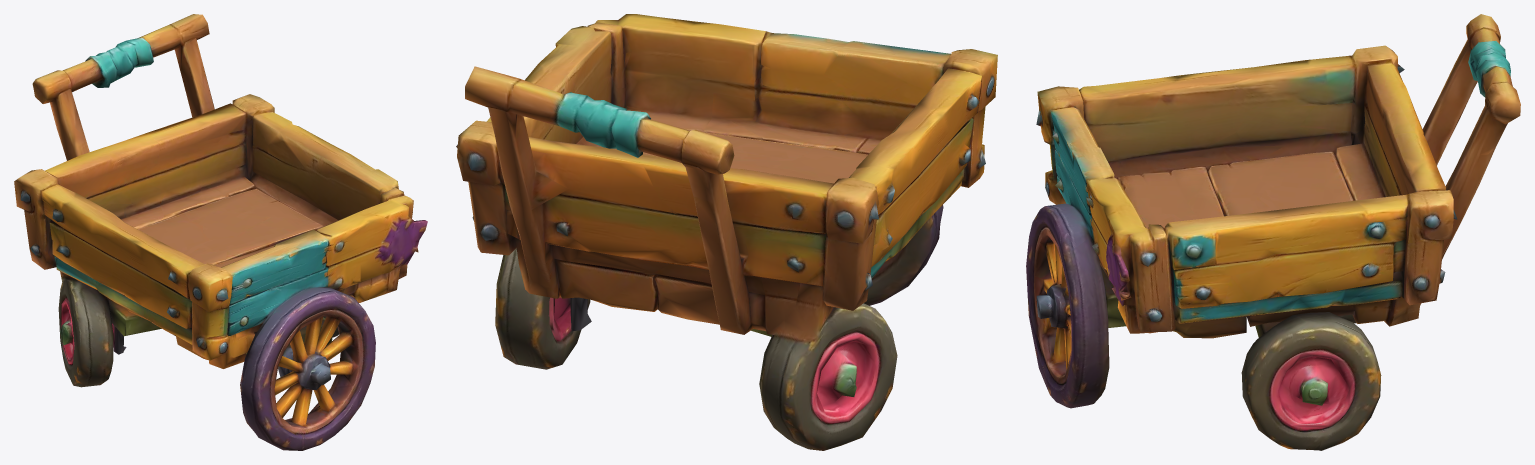
The model's file is powerup-jugaad-thela.glb.
The picture shows the model from 3 angles, left to right: view 1: azimuth 30°, elevation 25°; view 2: azimuth 150°, elevation 25°; view 3: azimuth 270°, elevation 25°; orthographic projection. The views are drawn at different scales.
Parts seen in each view (by area): view 1: tripo_node_c2c80756-0019-4c26-9bb5-9e8d2159ceca; view 2: tripo_node_c2c80756-0019-4c26-9bb5-9e8d2159ceca; view 3: tripo_node_c2c80756-0019-4c26-9bb5-9e8d2159ceca.
Part boxes in pixels (box(x1,y1,x2,y2)): tripo_node_c2c80756-0019-4c26-9bb5-9e8d2159ceca: box(14, 14, 427, 450); tripo_node_c2c80756-0019-4c26-9bb5-9e8d2159ceca: box(456, 14, 997, 450); tripo_node_c2c80756-0019-4c26-9bb5-9e8d2159ceca: box(1026, 14, 1520, 450).
Bounding box in the file's own units: 0.8715 × 0.7701 × 1.
Materials: 1 (1 with a texture image).
